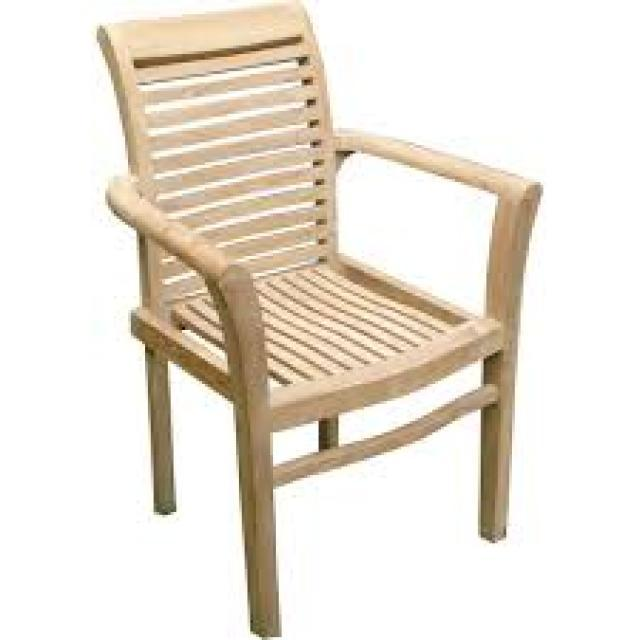chair: (70, 1, 562, 638)
